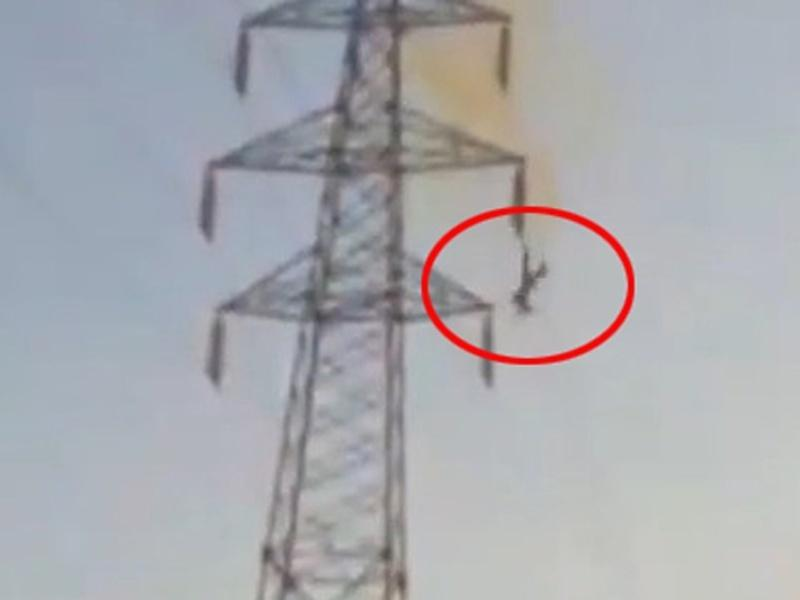power_tower: (201, 1, 491, 592)
